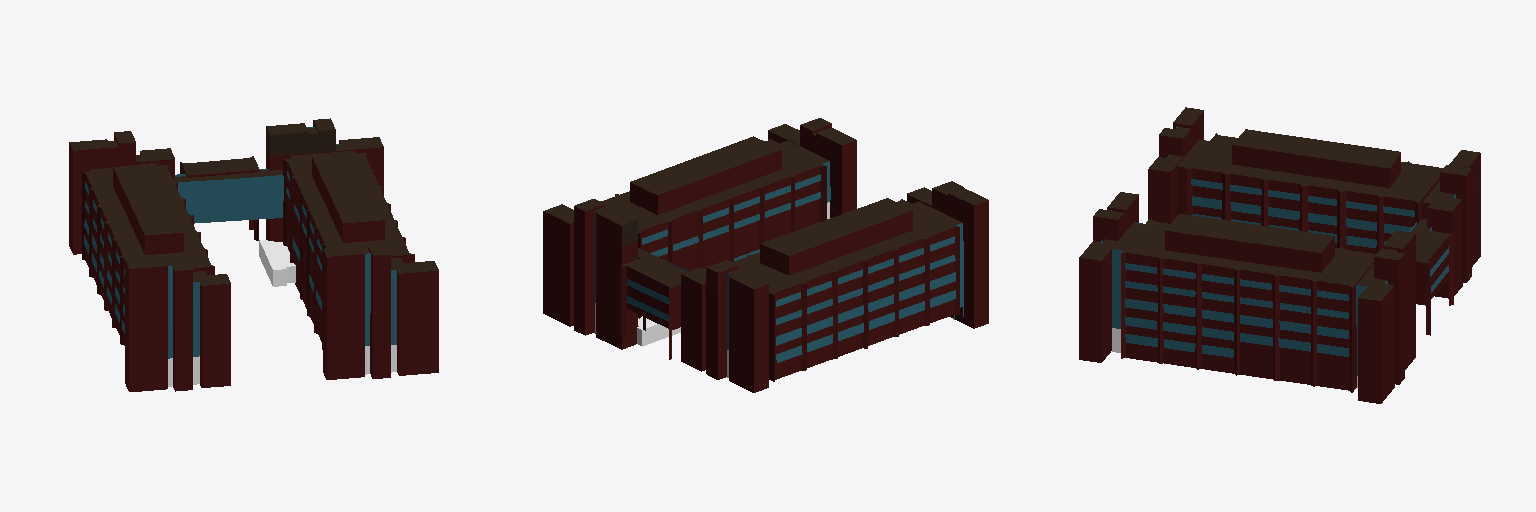
Rendered from Sherman.obj.
The picture shows the model from 3 angles: view 1: azimuth 30°, elevation 25°; view 2: azimuth 150°, elevation 25°; view 3: azimuth 270°, elevation 25°; orthographic projection.
Visible parts, largest first — view 1: SM_Sherman_Bldng, SM_Sherman_Wndws; view 2: SM_Sherman_Bldng, SM_Sherman_Wndws; view 3: SM_Sherman_Bldng, SM_Sherman_Wndws.
Boxes of the visible parts, box(x1,y1,x2,y2) form: SM_Sherman_Bldng: box(69, 118, 438, 391); SM_Sherman_Wndws: box(84, 127, 396, 357); SM_Sherman_Bldng: box(543, 118, 988, 392); SM_Sherman_Wndws: box(595, 129, 963, 362); SM_Sherman_Bldng: box(1079, 107, 1480, 403); SM_Sherman_Wndws: box(1100, 126, 1448, 375).
Size of the model in its own units: 8140 by 2888 by 8132.